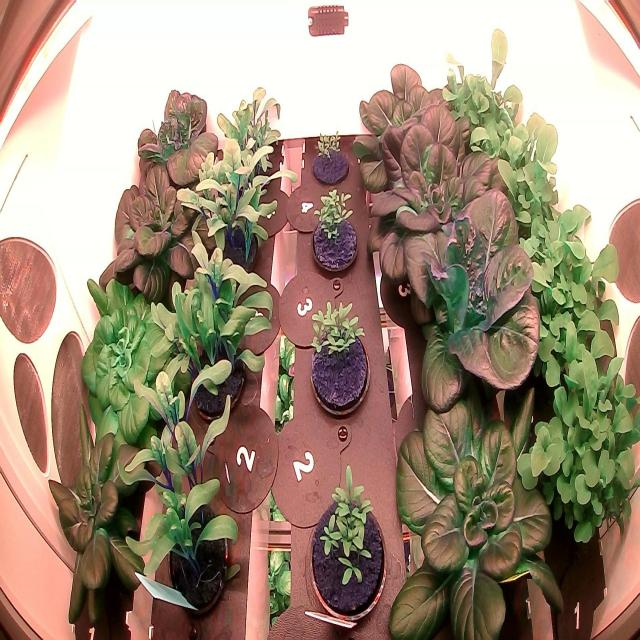germination: (300, 449, 394, 635), (296, 298, 376, 430), (304, 180, 364, 285), (305, 123, 355, 191)
young: (381, 355, 580, 640), (387, 179, 557, 430), (360, 102, 526, 274), (40, 424, 158, 636), (91, 141, 230, 314), (346, 45, 483, 196), (77, 268, 188, 451), (126, 74, 232, 208)
